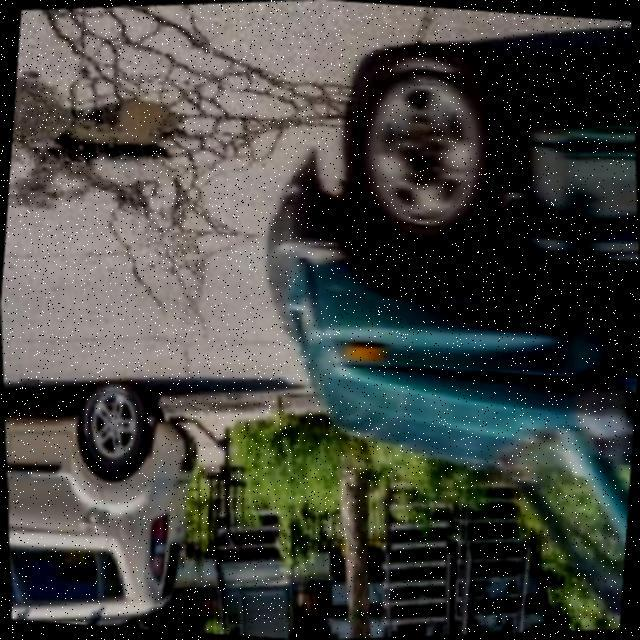Pothole: (55, 94, 184, 159)
